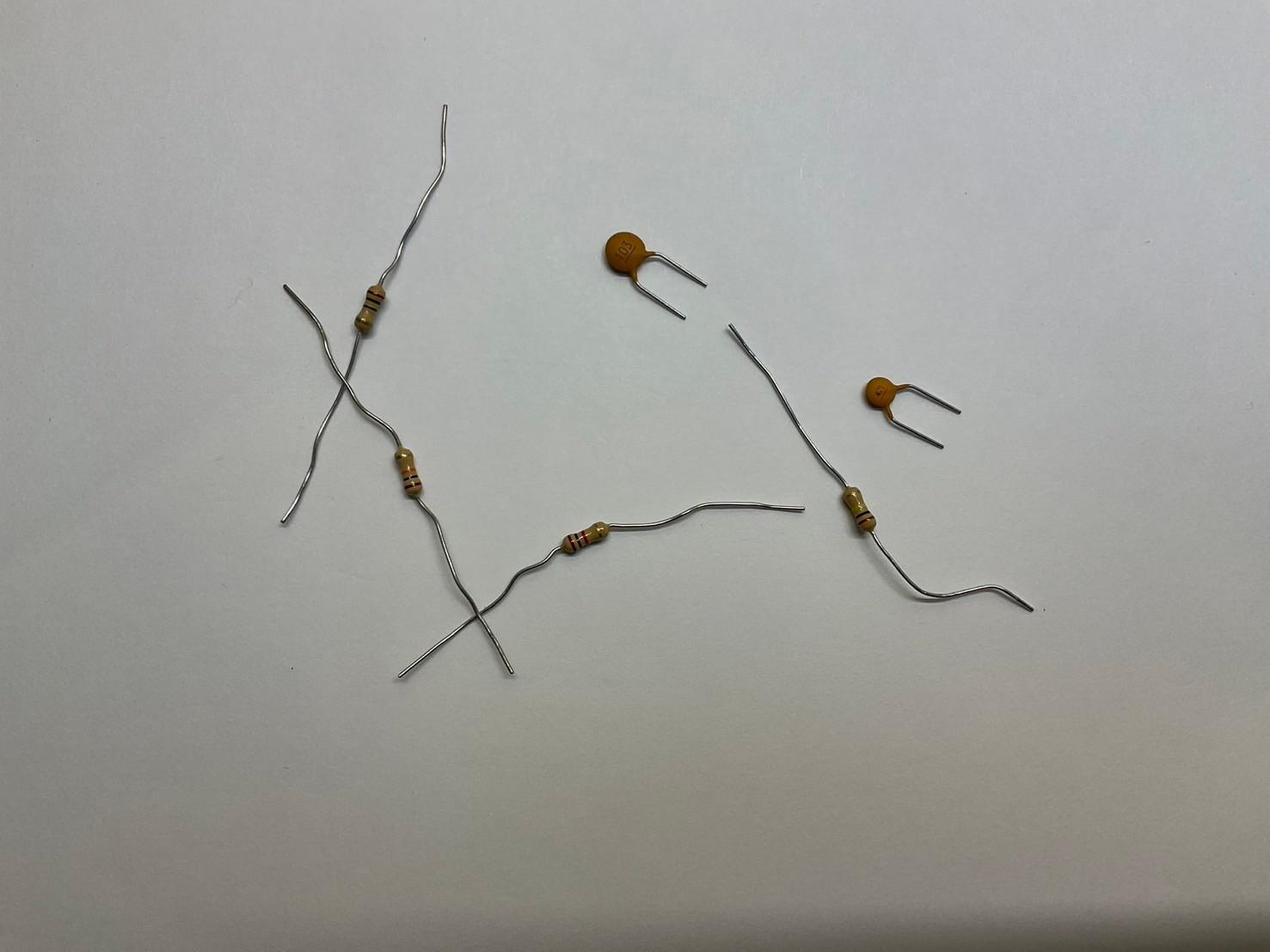resistor: (841, 485, 877, 534), (560, 520, 610, 555), (393, 445, 424, 499), (353, 284, 385, 335)
